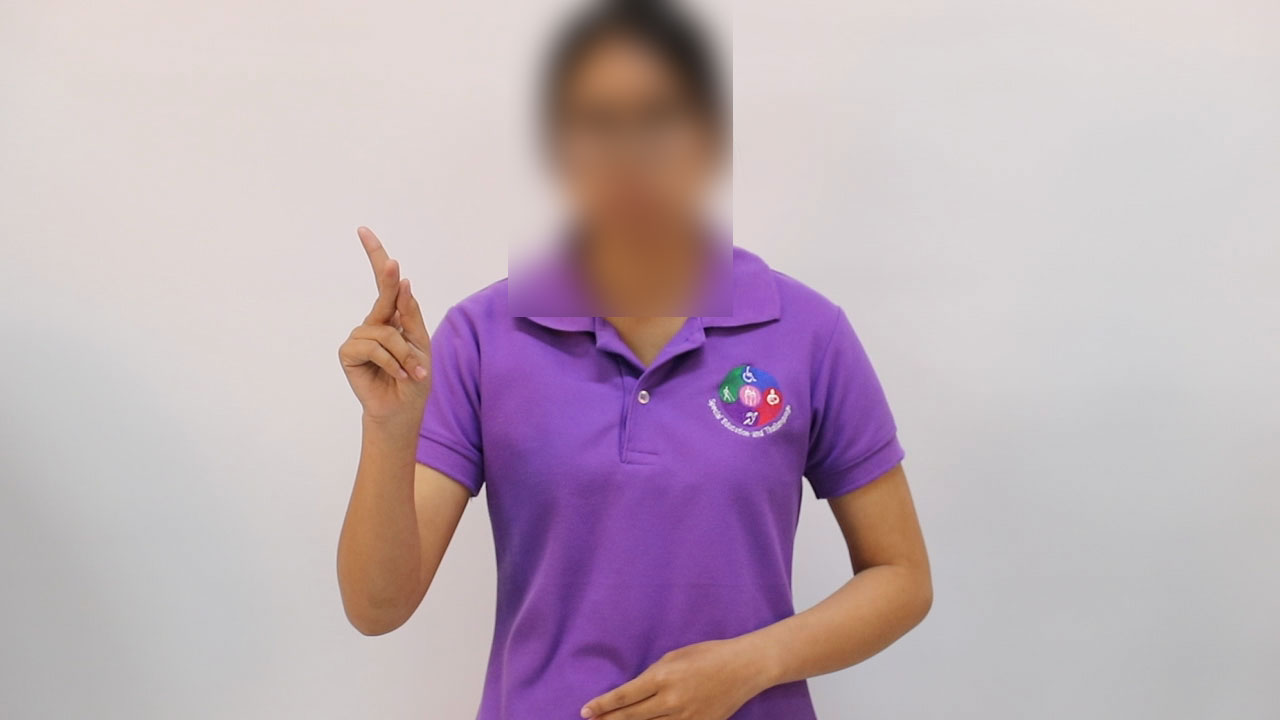ko: (320, 215, 456, 427)
